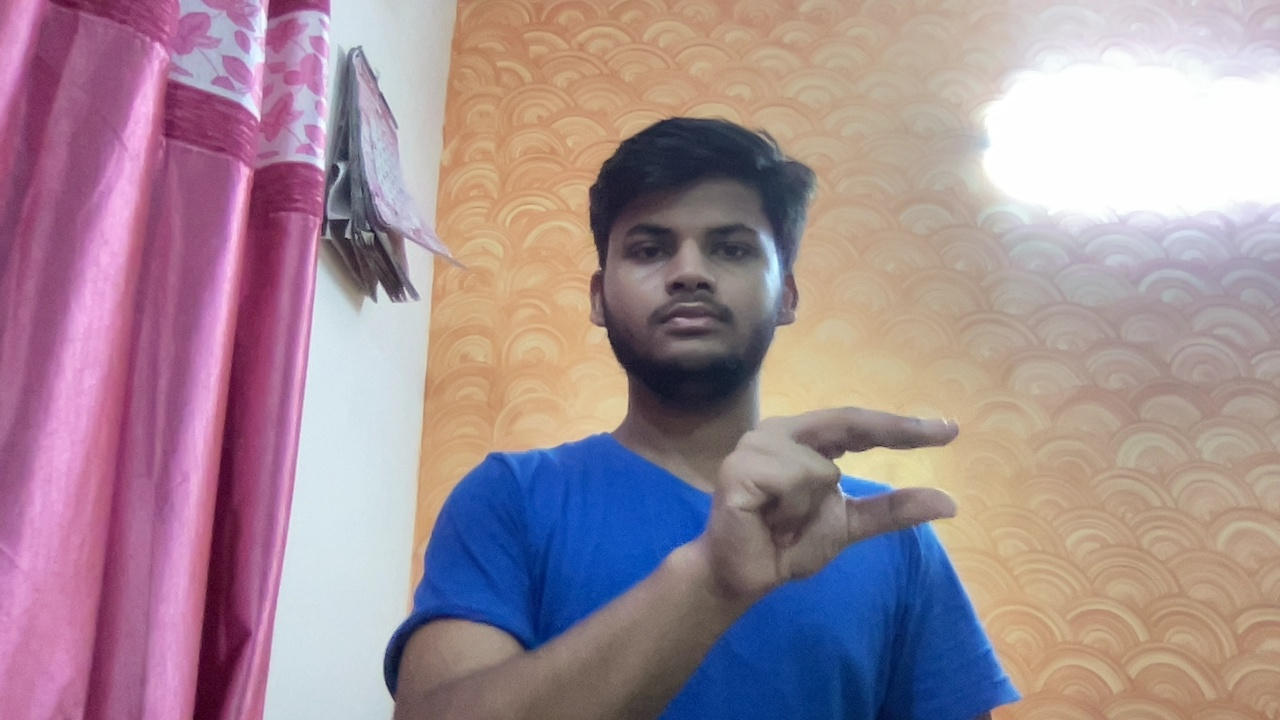no: (660, 406, 992, 601)
